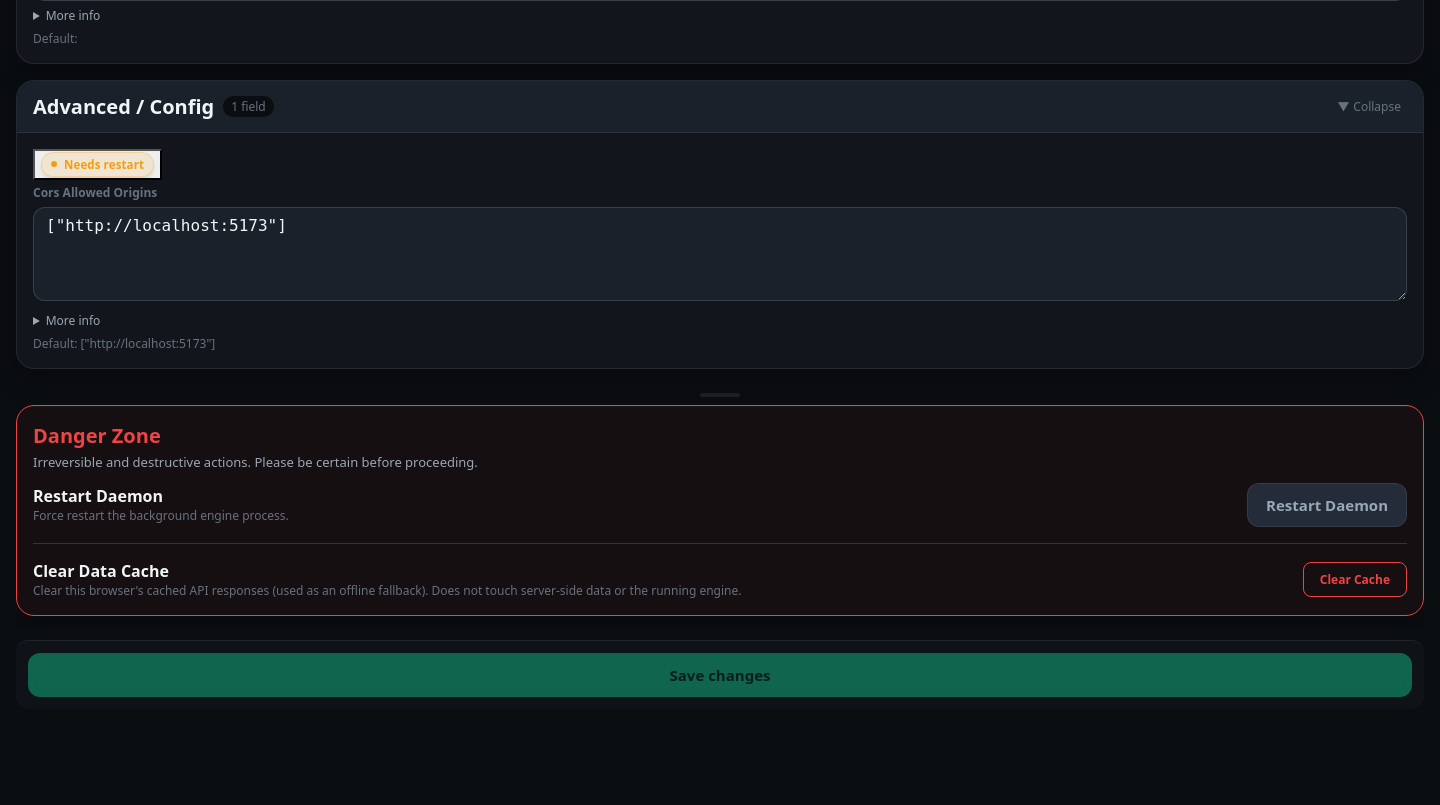
Test: SettingsManager screen › Danger Zone — Clear Data Cache › reports honestly when there is nothing cached to clear, instead of a fabricated success
(page scrolled)
Click the button with test id "clear-cache-button" at (1355, 579), box [1303,562,1407,597]
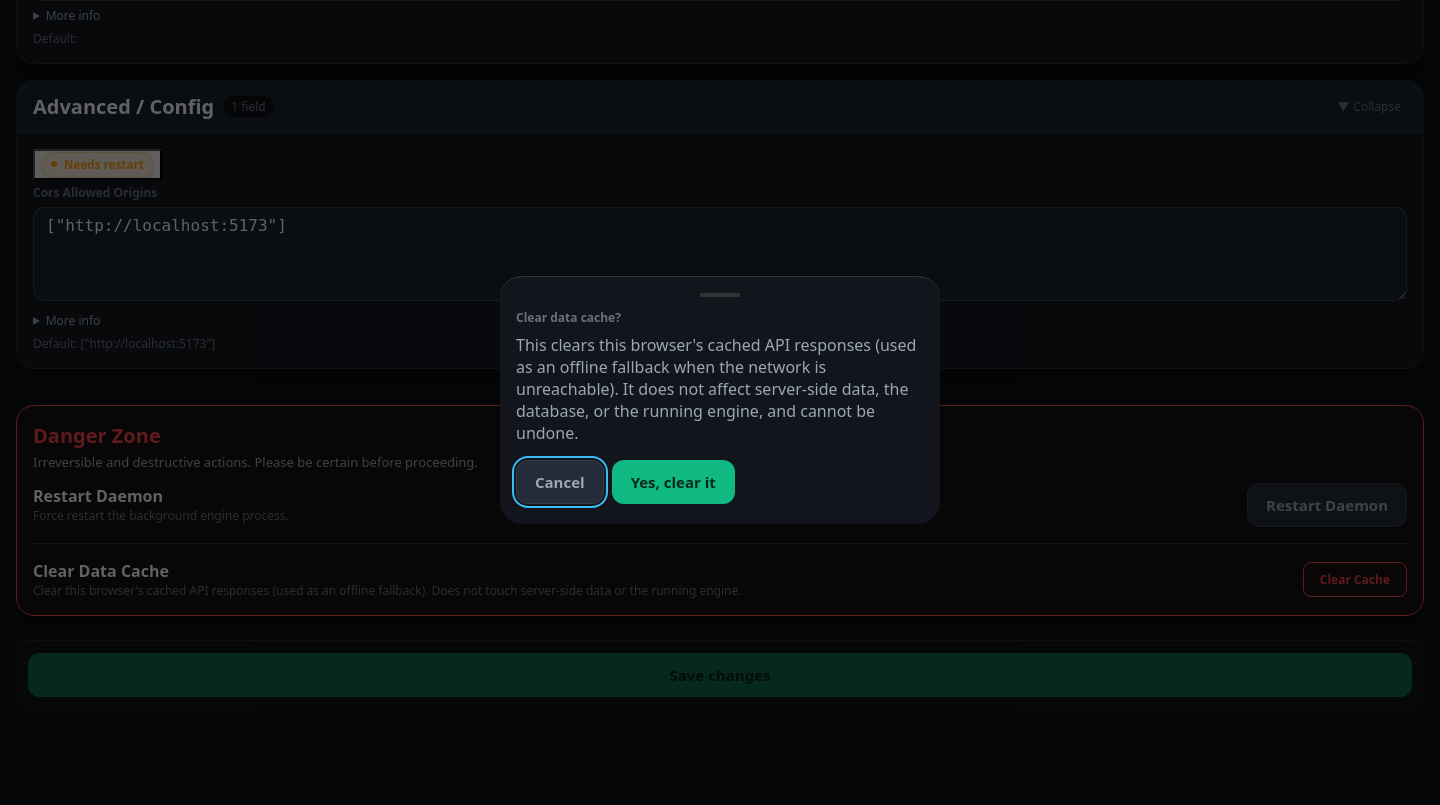
Click the button with test id "clear-cache-confirm-yes" at (673, 482), box [612,460,735,504]
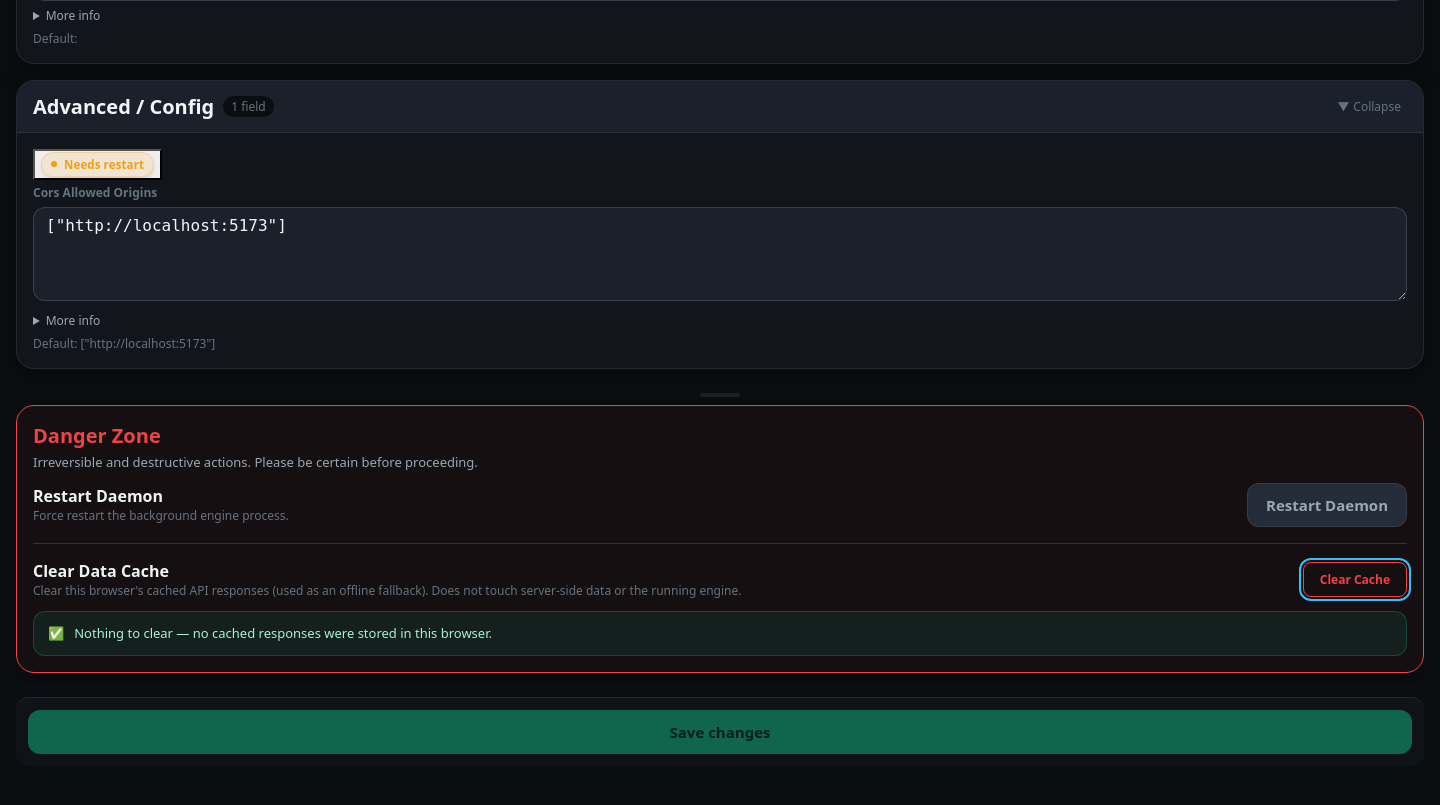
Check: the message with test id "cache-cleared-notice" shows "Nothing to clear", box [74,624,492,642]
